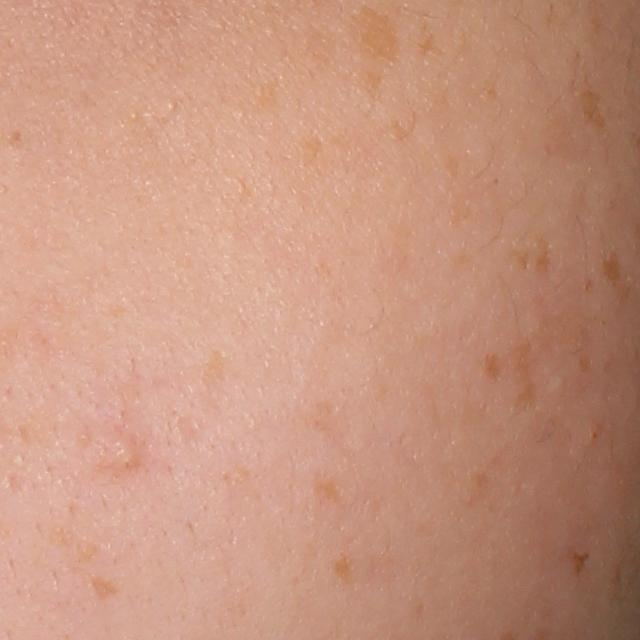comedo: (107, 437, 140, 470)
melasma: (479, 329, 549, 416), (356, 0, 398, 71), (506, 237, 560, 279), (194, 351, 234, 399), (308, 472, 353, 510), (578, 86, 616, 130), (598, 244, 626, 288), (387, 106, 417, 140), (331, 551, 358, 587), (87, 577, 125, 602), (569, 548, 591, 579)
